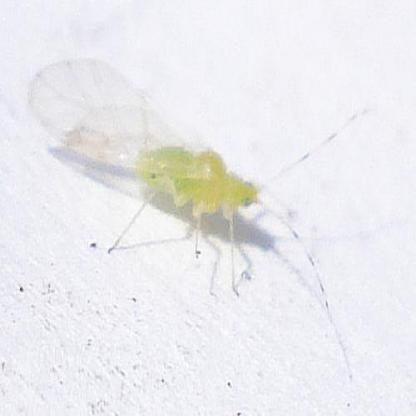aphid: (27, 48, 366, 380)
